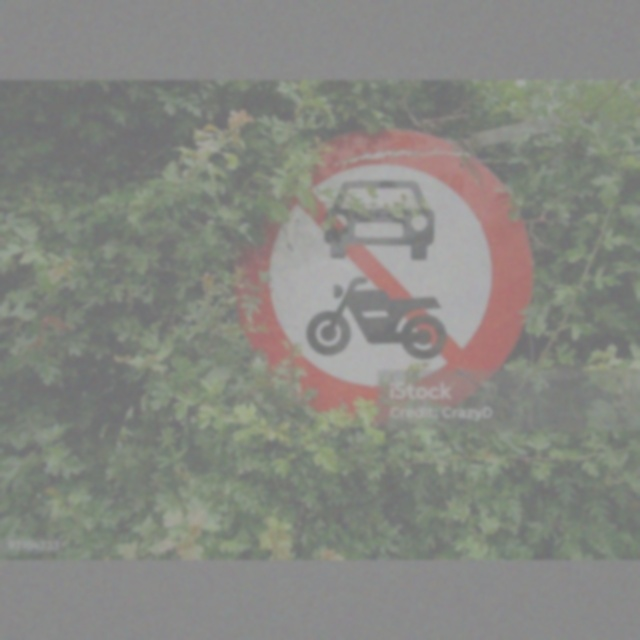All_Motor_Vehicles_Prohibited: (237, 130, 533, 428)
